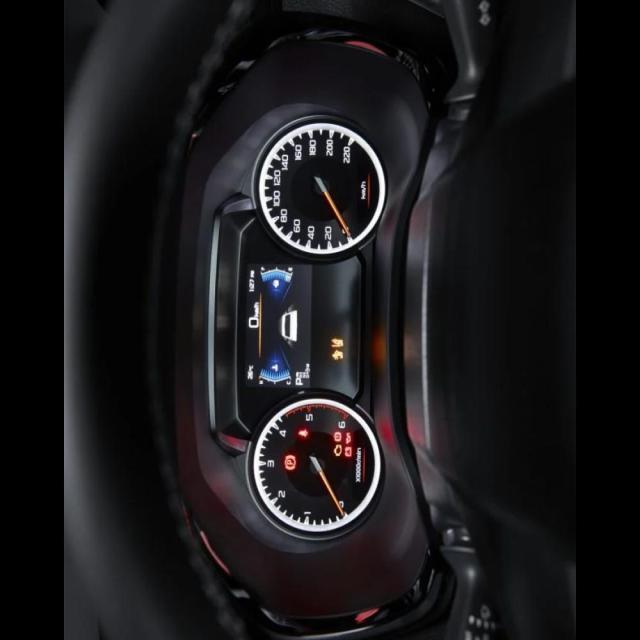Seat Belt: (298, 428, 308, 438)
